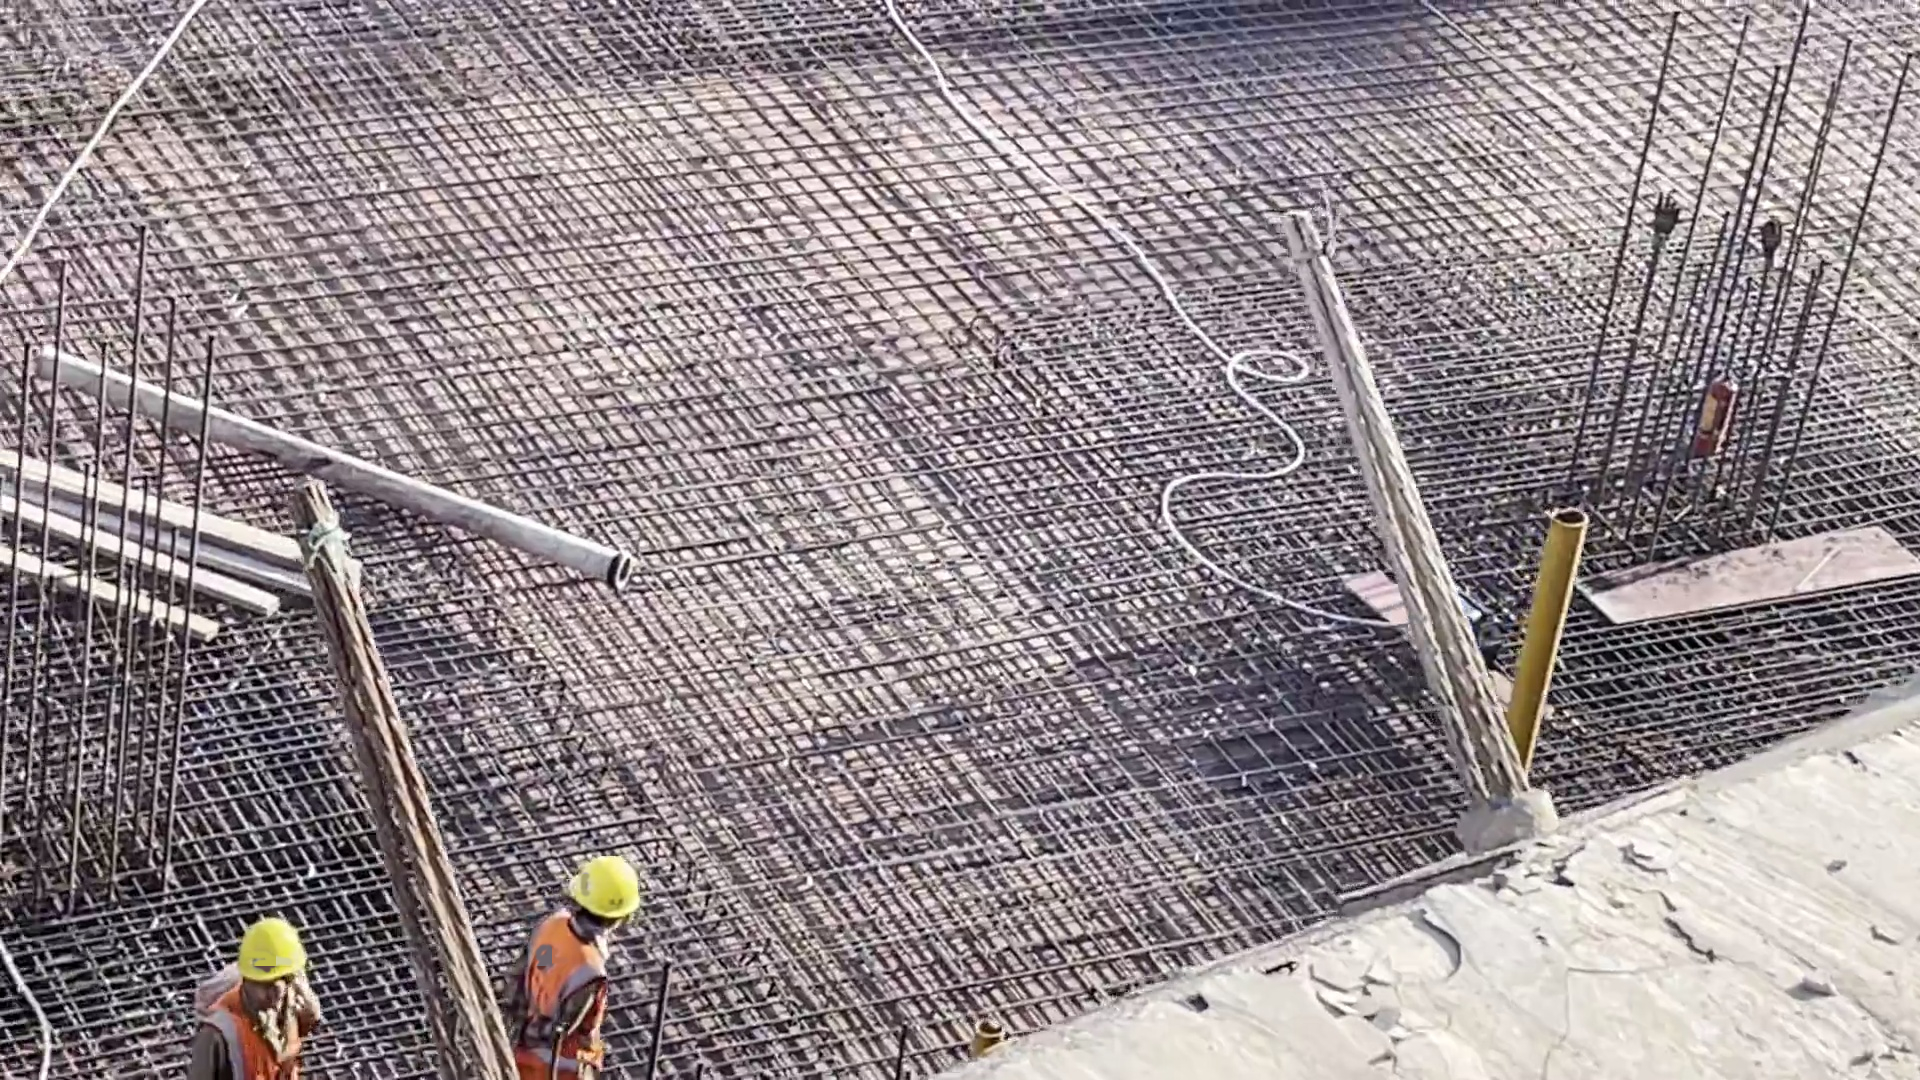helmet: (228, 917, 303, 987), (568, 859, 635, 915)
person: (499, 842, 640, 1080), (191, 911, 324, 1080)
vest: (511, 924, 599, 1065), (203, 1012, 301, 1080)
